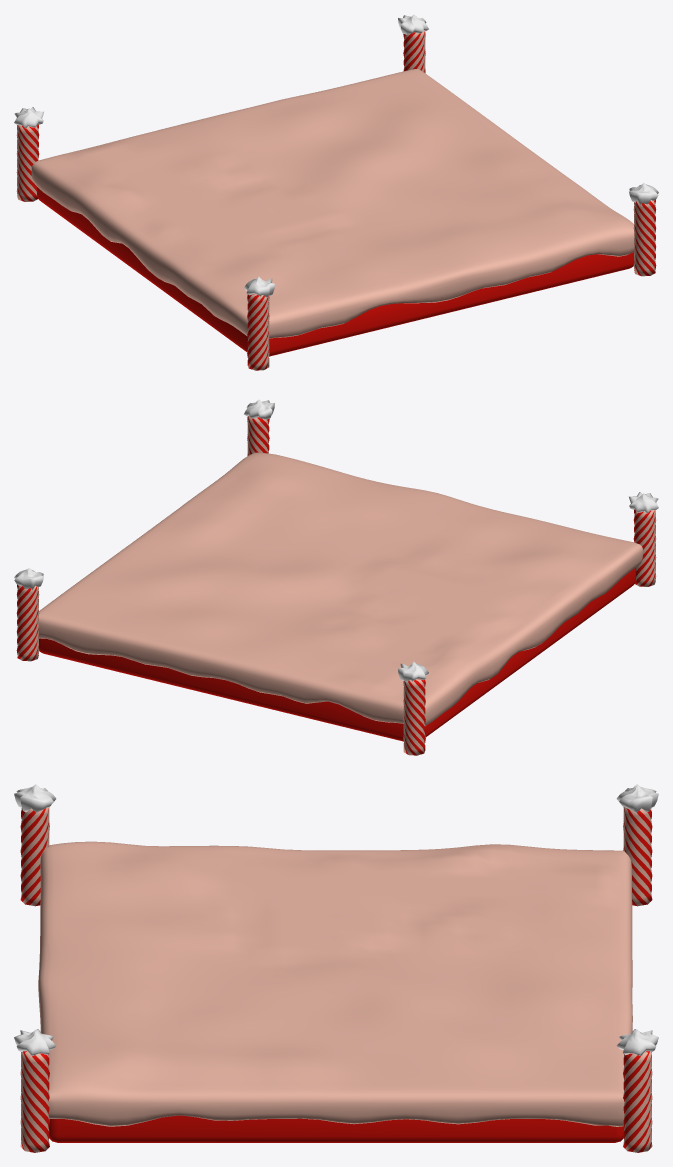
The model's file is environment2.fbx.
3 views of the same model, one above another, from view 1: azimuth 30°, elevation 25°; view 2: azimuth 150°, elevation 25°; view 3: azimuth 270°, elevation 25° (orthographic). The views are drawn at different scales.
Visible parts, largest first — view 1: Cube.001, Cube, Cylinder, BezierCurve; view 2: Cube.001, Cube, Cylinder, BezierCurve; view 3: Cube.001, Cube, Cylinder, BezierCurve.
Part boxes in pixels (x1,y1,x2,y2): Cube.001: (31, 69, 634, 338); Cube: (37, 187, 634, 356); Cylinder: (16, 30, 656, 370); BezierCurve: (14, 14, 658, 297); Cube.001: (38, 452, 643, 725); Cube: (38, 568, 635, 741); Cylinder: (16, 415, 656, 755); BezierCurve: (14, 399, 658, 682); Cube.001: (38, 841, 632, 1126); Cube: (49, 1115, 623, 1142); Cylinder: (20, 807, 652, 1152); BezierCurve: (14, 784, 658, 1056).
Size of the model in its own units: 215 by 44.69 by 223.
